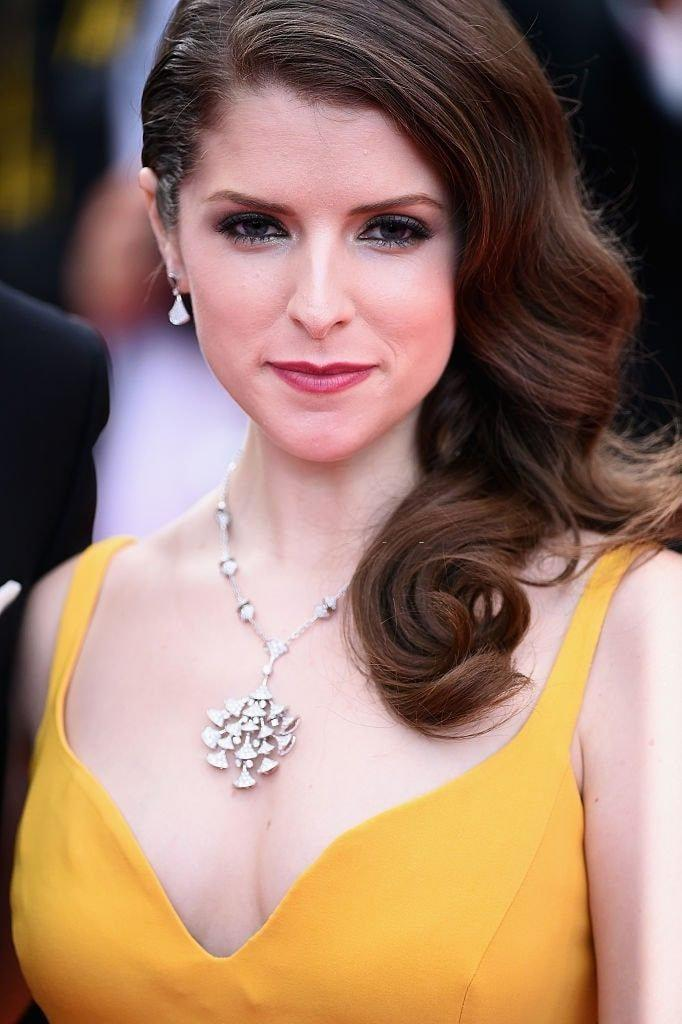Sober: (181, 114, 458, 439)
